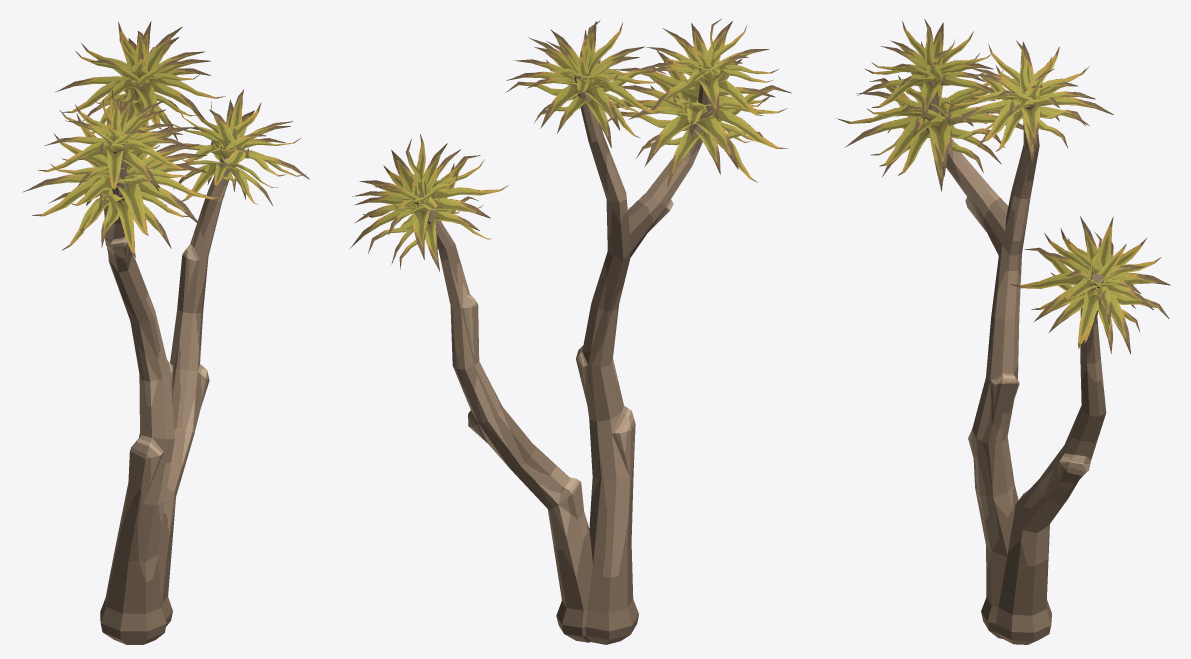
File: sc-cactus-b.glb
The picture shows the model from 3 angles, left to right: view 1: azimuth 30°, elevation 25°; view 2: azimuth 150°, elevation 25°; view 3: azimuth 270°, elevation 25°; orthographic projection. The views are drawn at different scales.
Parts seen in each view (by area): view 1: SM_Env_Succulent_06_LOD0; view 2: SM_Env_Succulent_06_LOD0; view 3: SM_Env_Succulent_06_LOD0.
Boxes of the visible parts, left/top/right/bottom form: SM_Env_Succulent_06_LOD0: left=22, top=21, right=309, bottom=644; SM_Env_Succulent_06_LOD0: left=349, top=19, right=791, bottom=644; SM_Env_Succulent_06_LOD0: left=836, top=19, right=1170, bottom=644.
Size of what is drawn, in the model's own units: 4.7 by 7.5 by 3.97.
Materials: 2 (2 with a texture image).
